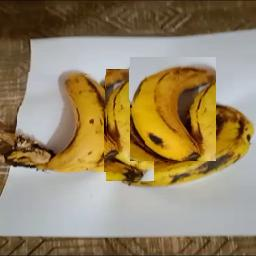Banana Semifresh: (18, 73, 119, 173), (130, 57, 216, 161), (107, 69, 155, 181)
